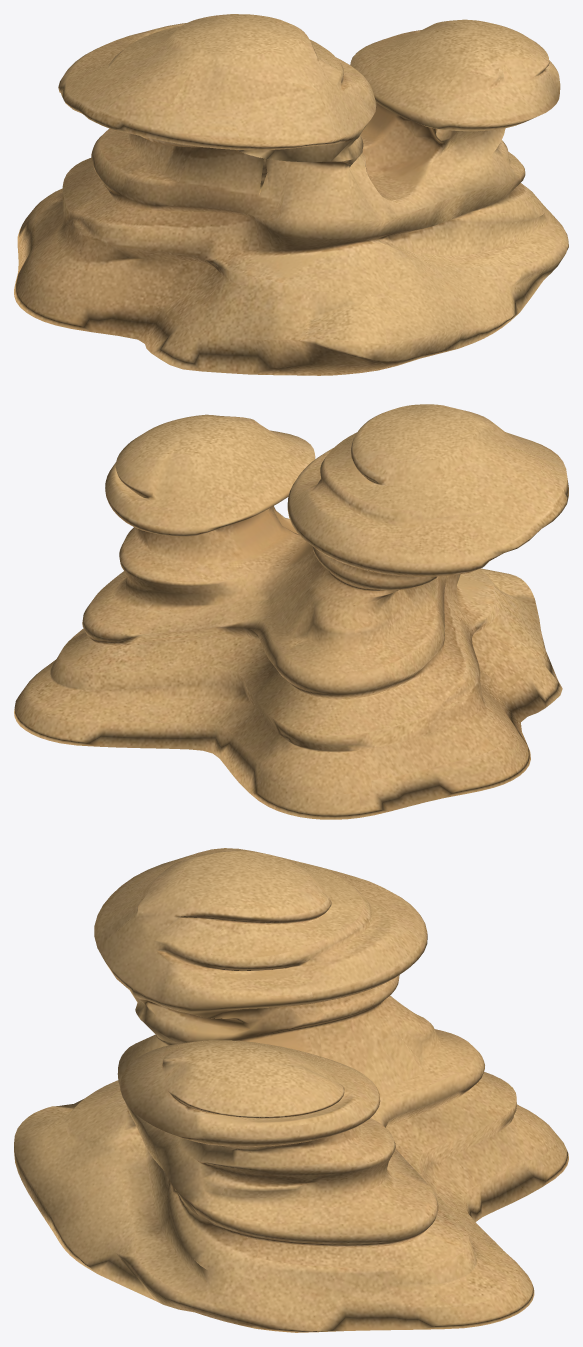
The model's file is tripo_convert_3878117b-4492-406d-a5ab-4f299714ae04.fbx.
3 renders of one model, top to bottom at view 1: azimuth 30°, elevation 25°; view 2: azimuth 150°, elevation 25°; view 3: azimuth 270°, elevation 25°, orthographic. The views are drawn at different scales.
Parts seen in each view (by area): view 1: tripo_node_3878117b; view 2: tripo_node_3878117b; view 3: tripo_node_3878117b.
Boxes of the visible parts, x1=… form: tripo_node_3878117b: x1=14, y1=14, x2=568, y2=375; tripo_node_3878117b: x1=14, y1=404, x2=568, y2=819; tripo_node_3878117b: x1=14, y1=848, x2=568, y2=1332.
Bounding box in the file's own units: 0.9995 × 0.5728 × 0.9634.
1 material, 1 textured.
